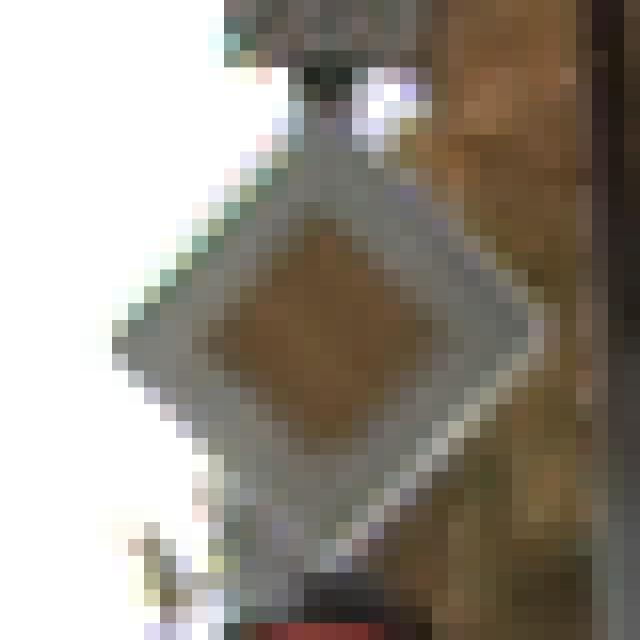Main Road: (97, 85, 561, 557)
